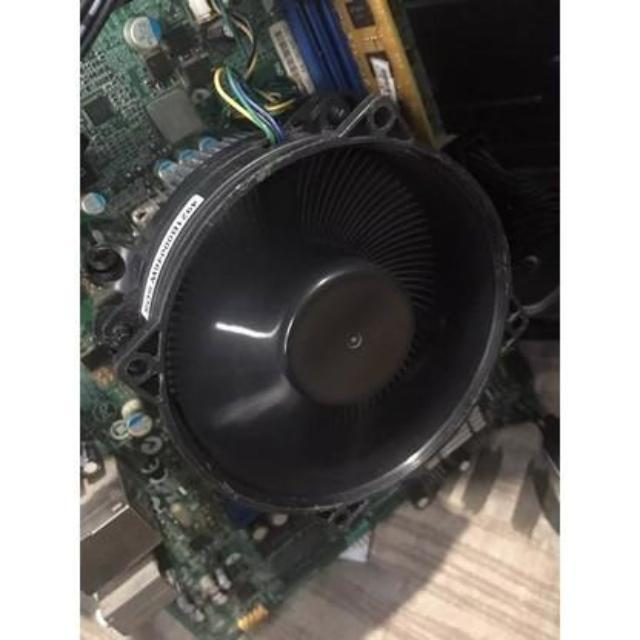CPU_Fan: (122, 95, 500, 537)
